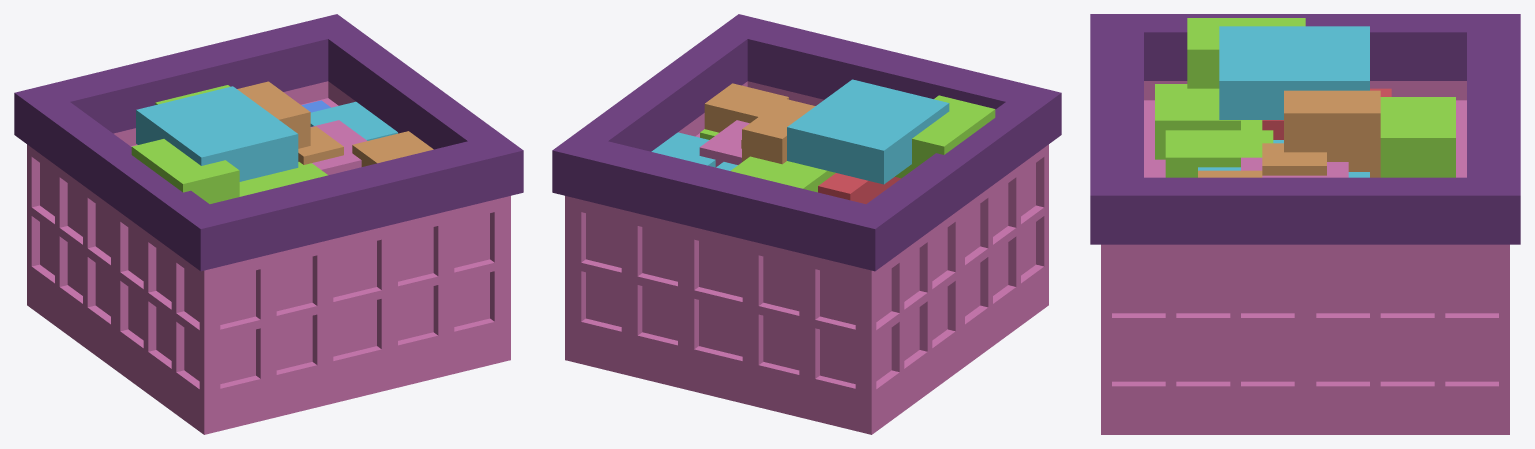
The model's file is laundry_basket.obj.
3 views of the same model, side by side, from view 1: azimuth 30°, elevation 25°; view 2: azimuth 150°, elevation 25°; view 3: azimuth 270°, elevation 25° (orthographic). The views are drawn at different scales.
Visible parts, largest first — view 1: laundry_basket; view 2: laundry_basket; view 3: laundry_basket.
Boxes of the visible parts, x1=… form: laundry_basket: x1=14, y1=14, x2=523, y2=434; laundry_basket: x1=552, y1=14, x2=1061, y2=434; laundry_basket: x1=1090, y1=14, x2=1520, y2=434.
Size of the model in its own units: 40 by 27 by 40.
Materials: 1 (1 with a texture image).
